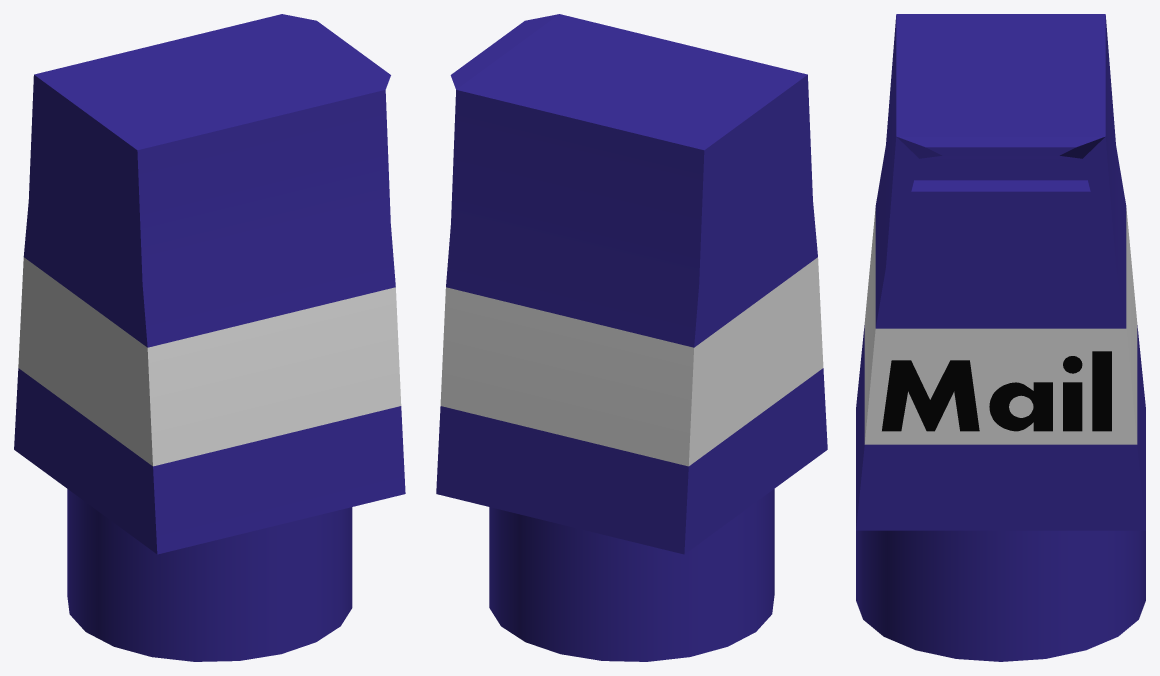
The model's file is mailbox.fbx.
The picture shows the model from 3 angles, left to right: view 1: azimuth 30°, elevation 25°; view 2: azimuth 150°, elevation 25°; view 3: azimuth 270°, elevation 25°; orthographic projection.
Visible parts, largest first — view 1: polySurface1; view 2: polySurface1; view 3: polySurface1, Trim_Char_M_1_1, Trim_Char_a_1_1, Trim_Char_l_1_1, Trim_Char_i_1_1.
Part boxes in pixels (left/top/right/bottom): polySurface1: left=14, top=14, right=405, bottom=661; polySurface1: left=436, top=14, right=827, bottom=661; polySurface1: left=856, top=14, right=1145, bottom=661; Trim_Char_M_1_1: left=882, top=360, right=979, bottom=431; Trim_Char_a_1_1: left=989, top=382, right=1052, bottom=431; Trim_Char_l_1_1: left=1092, top=351, right=1111, bottom=431; Trim_Char_i_1_1: left=1063, top=356, right=1082, bottom=431.
Size of the model in its own units: 2.16 by 4 by 2.
